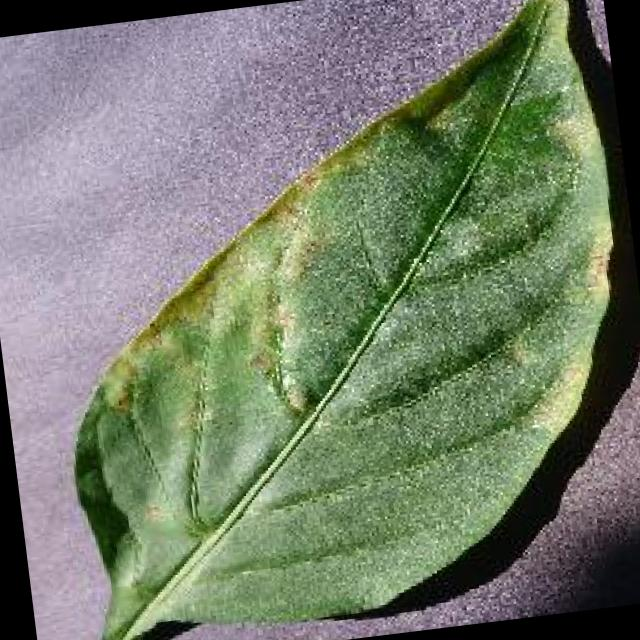Chilli_Bacterial_Spot: (11, 0, 640, 640), (77, 238, 276, 429), (247, 113, 401, 222), (502, 352, 605, 439), (544, 91, 618, 172)
